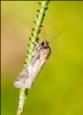army worm adult: (12, 27, 66, 95)
